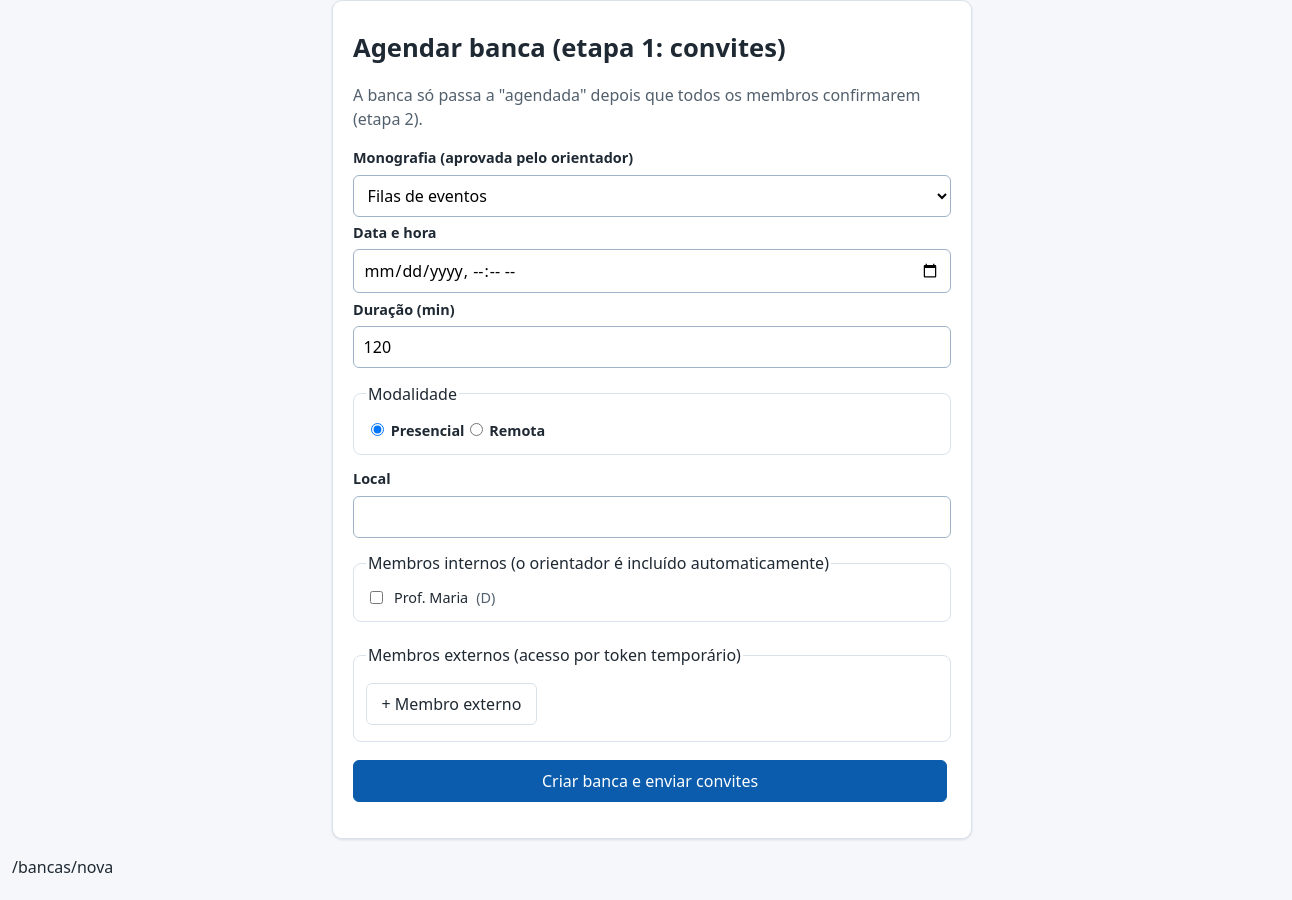
Test: Nova banca › defesa remota com membro interno e externo
Type "2026-12-01T14:00" into the field labelled "Data e hora". click: (652, 271)
box: [353,249,951,293]
Click the radio button labelled "Remota". click: click(476, 429)
box: [470,423,482,436]
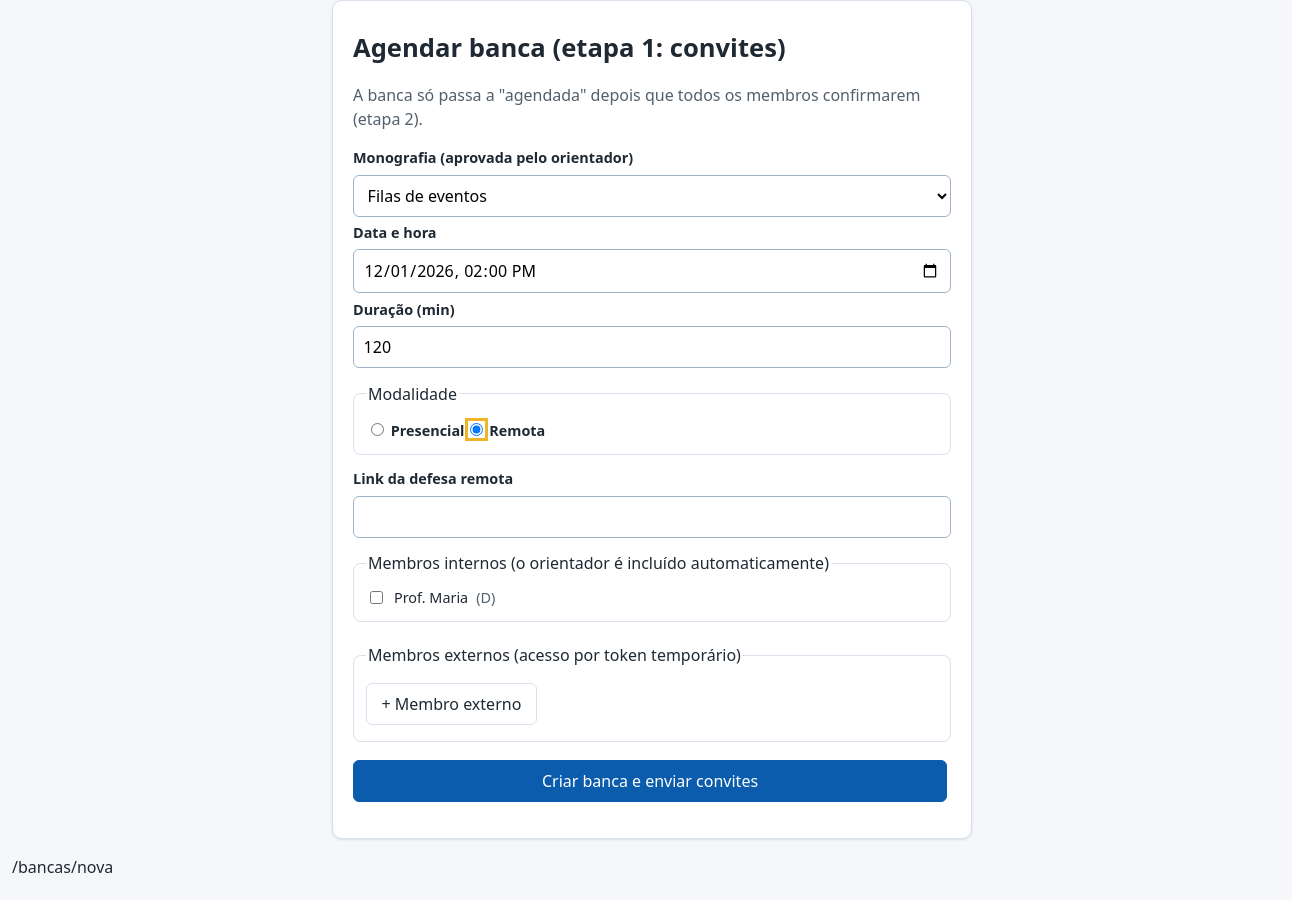
Type "https://meet.exemplo/abc" into the field labelled "Link da defesa remota". click: (652, 517)
box: [353,496,951,538]
Click the checkbox labelled "Prof. Maria (D)". click: click(376, 598)
box: [370,592,383,604]
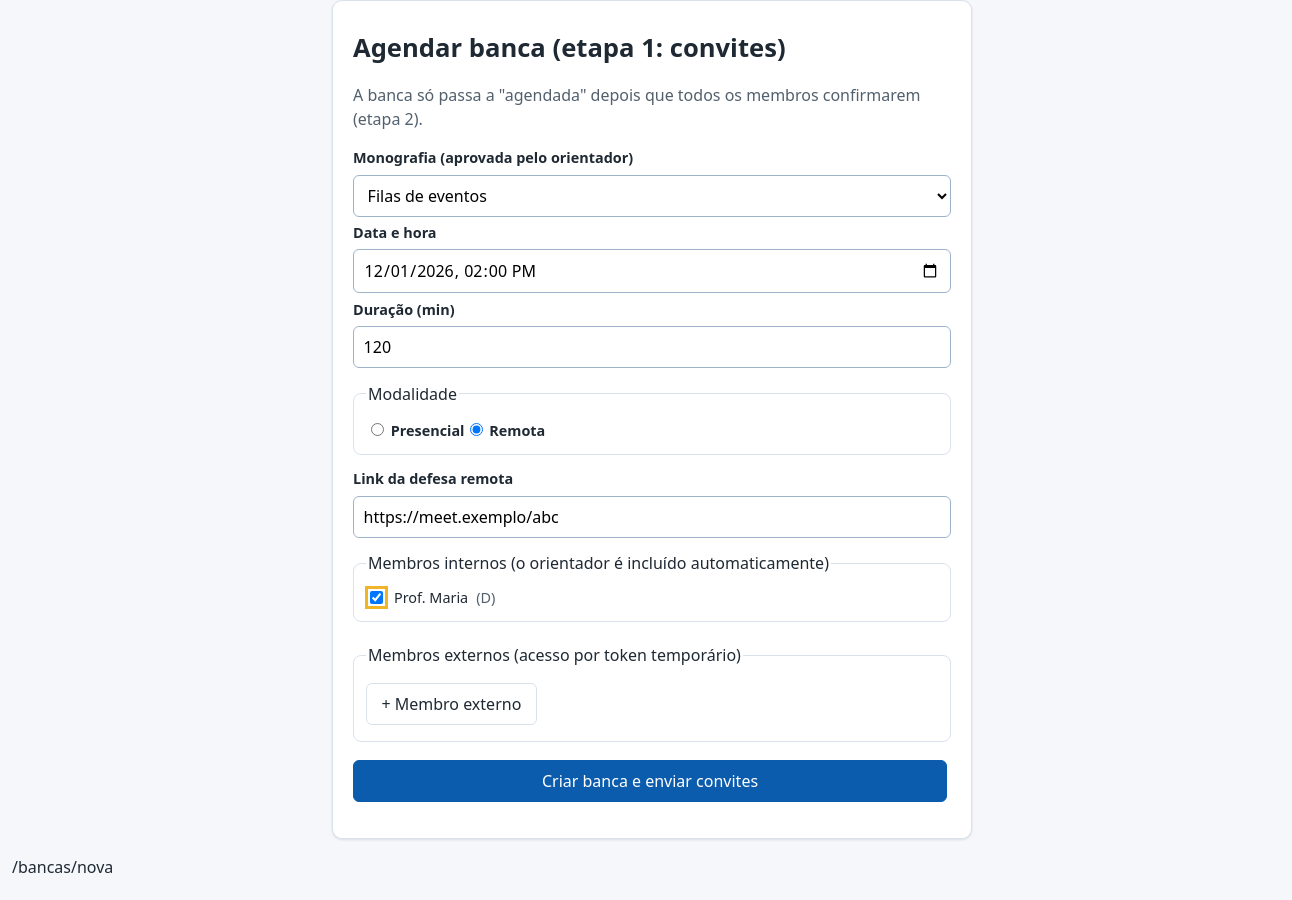
Click the button "+ Membro externo". click: click(451, 704)
box: [366,683,537,725]
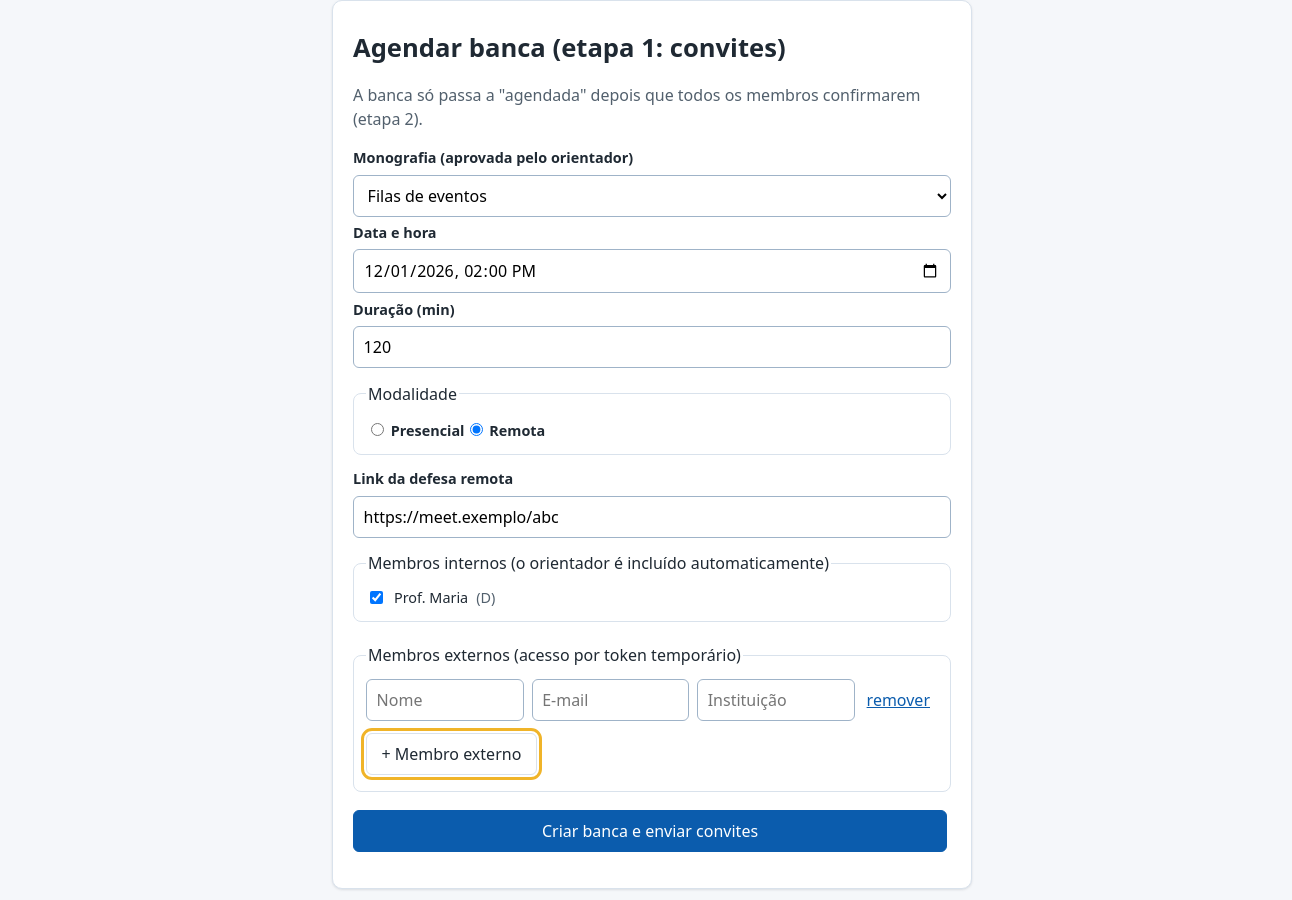
Type "Dra. Externa" into the field labelled "Nome". click: (445, 700)
box: [366,679,524,721]
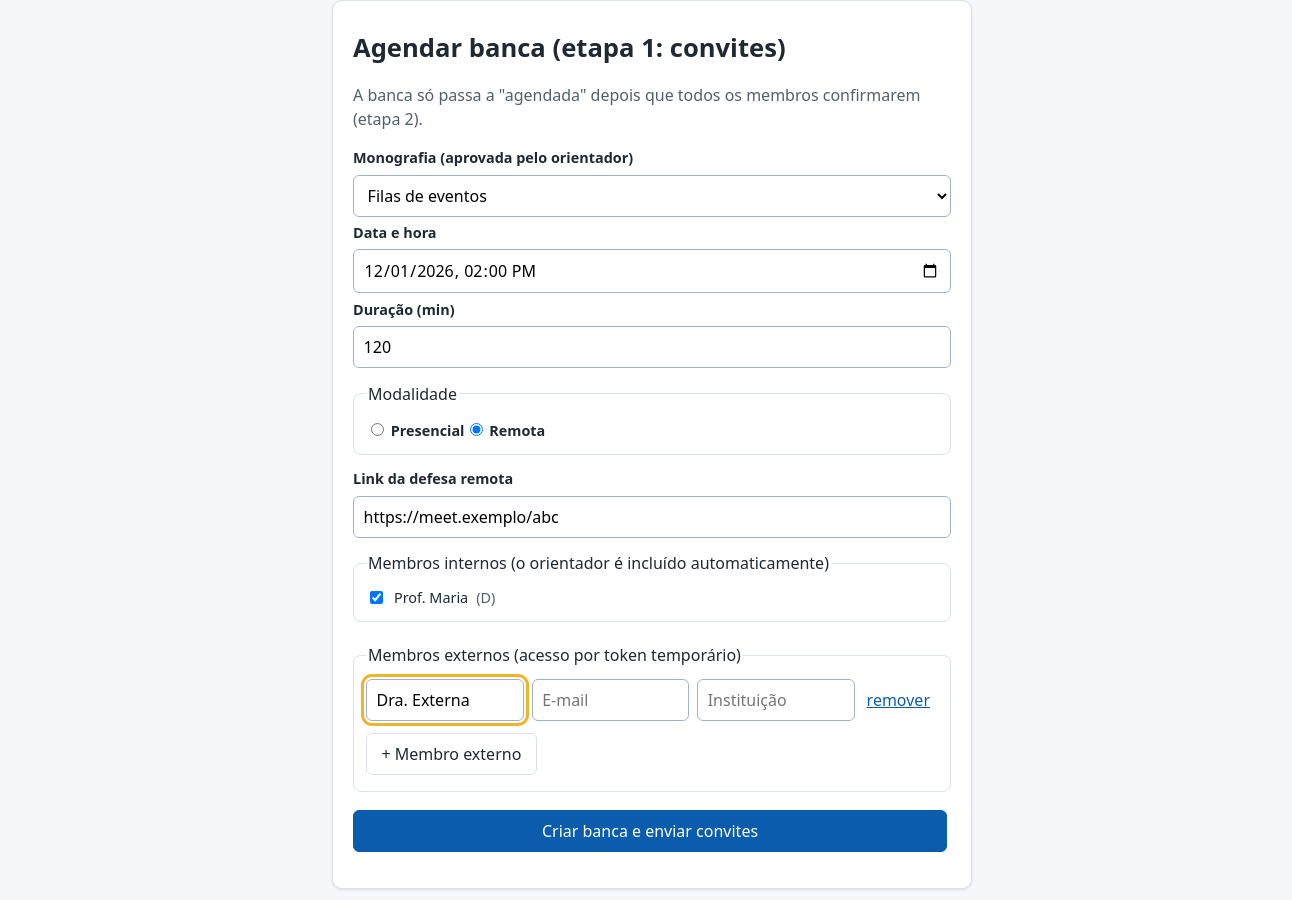
Type "externa@outra.edu" into the field labelled "E-mail". click: (610, 700)
box: [532,679,689,721]
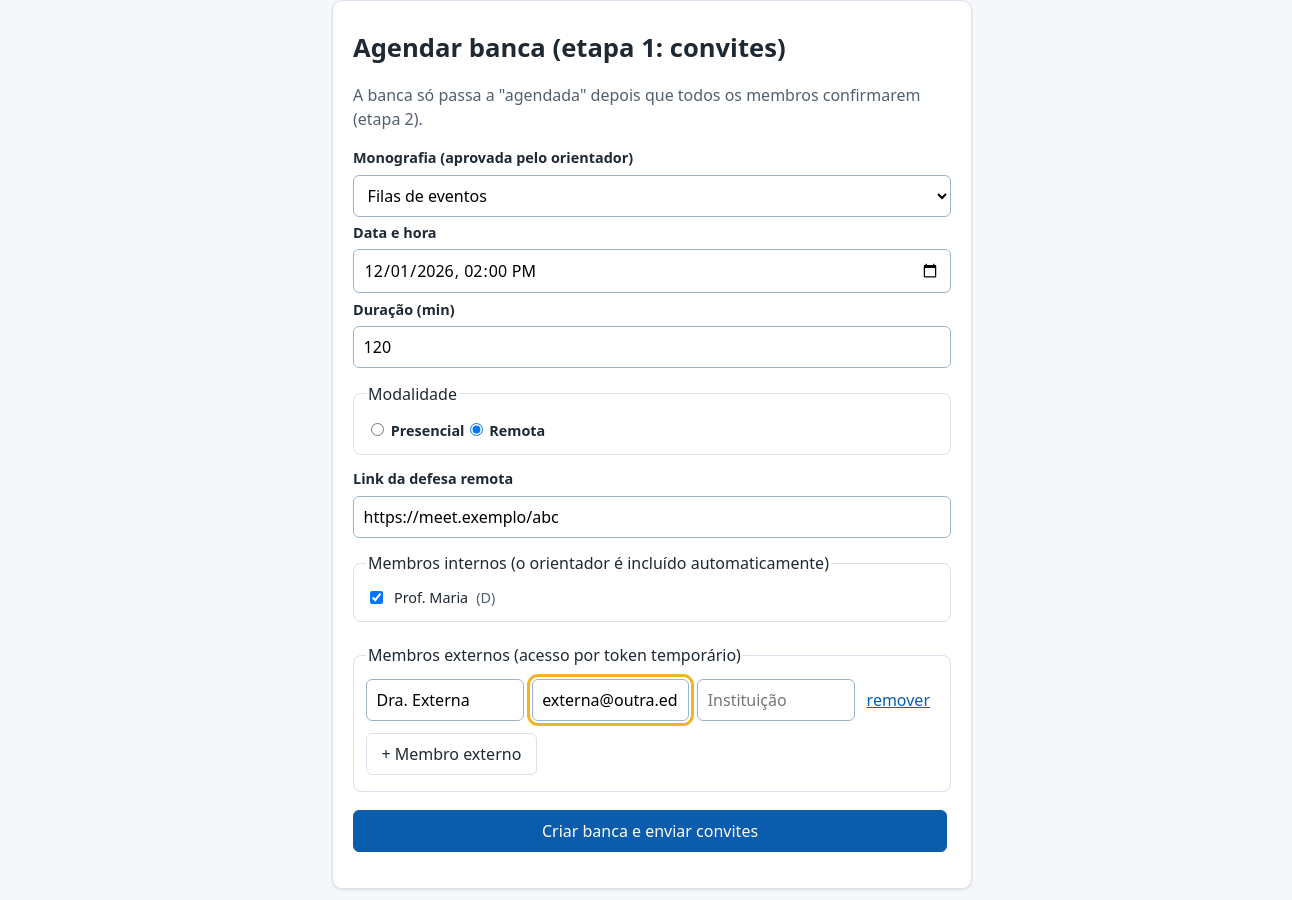
Click the button "Criar banca e enviar convites". click: click(650, 831)
box: [353,810,947,852]
(page scrolled)
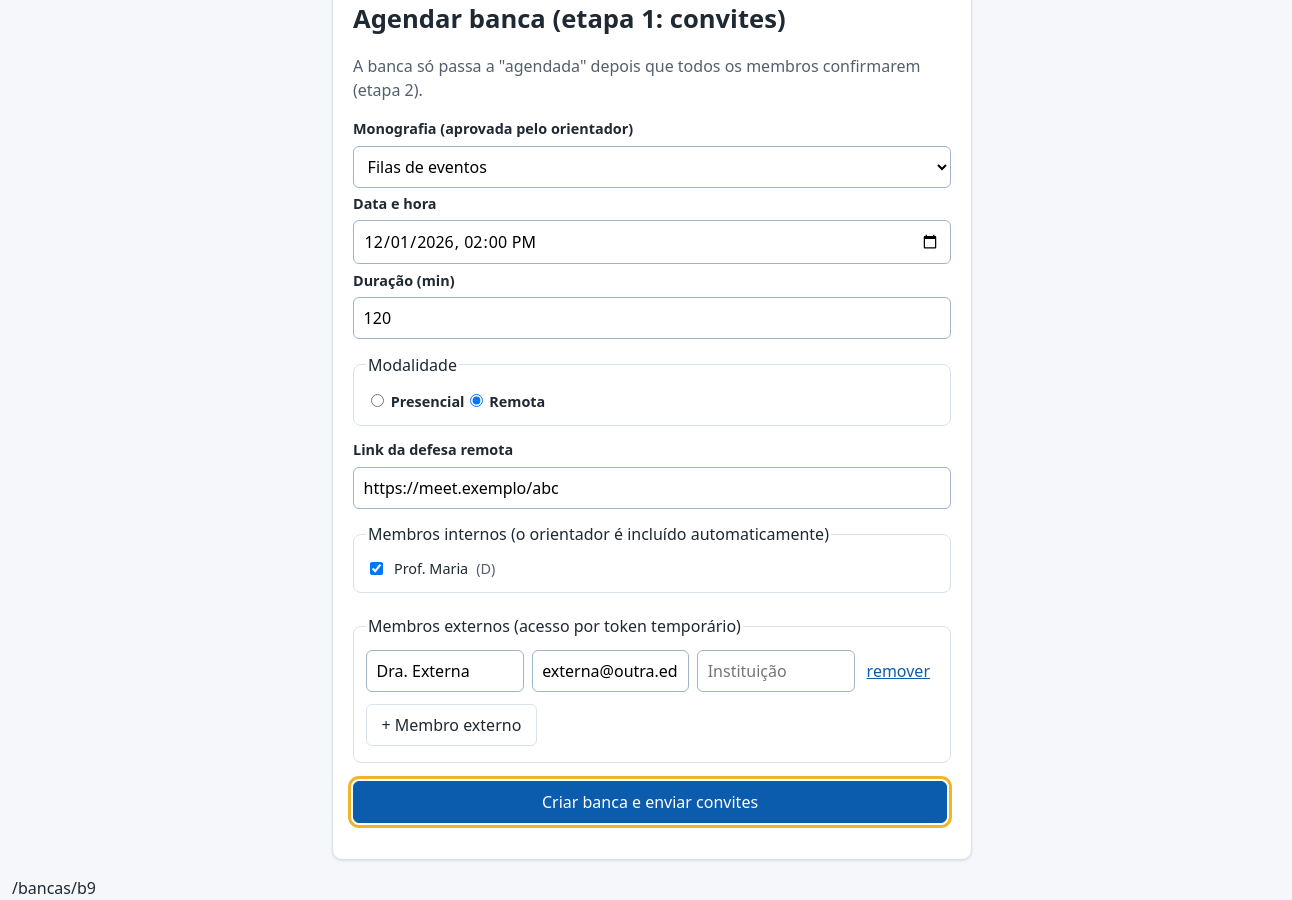
expect the text with test id "url" reads "/bancas/b9": met, box [12,877,96,899]
